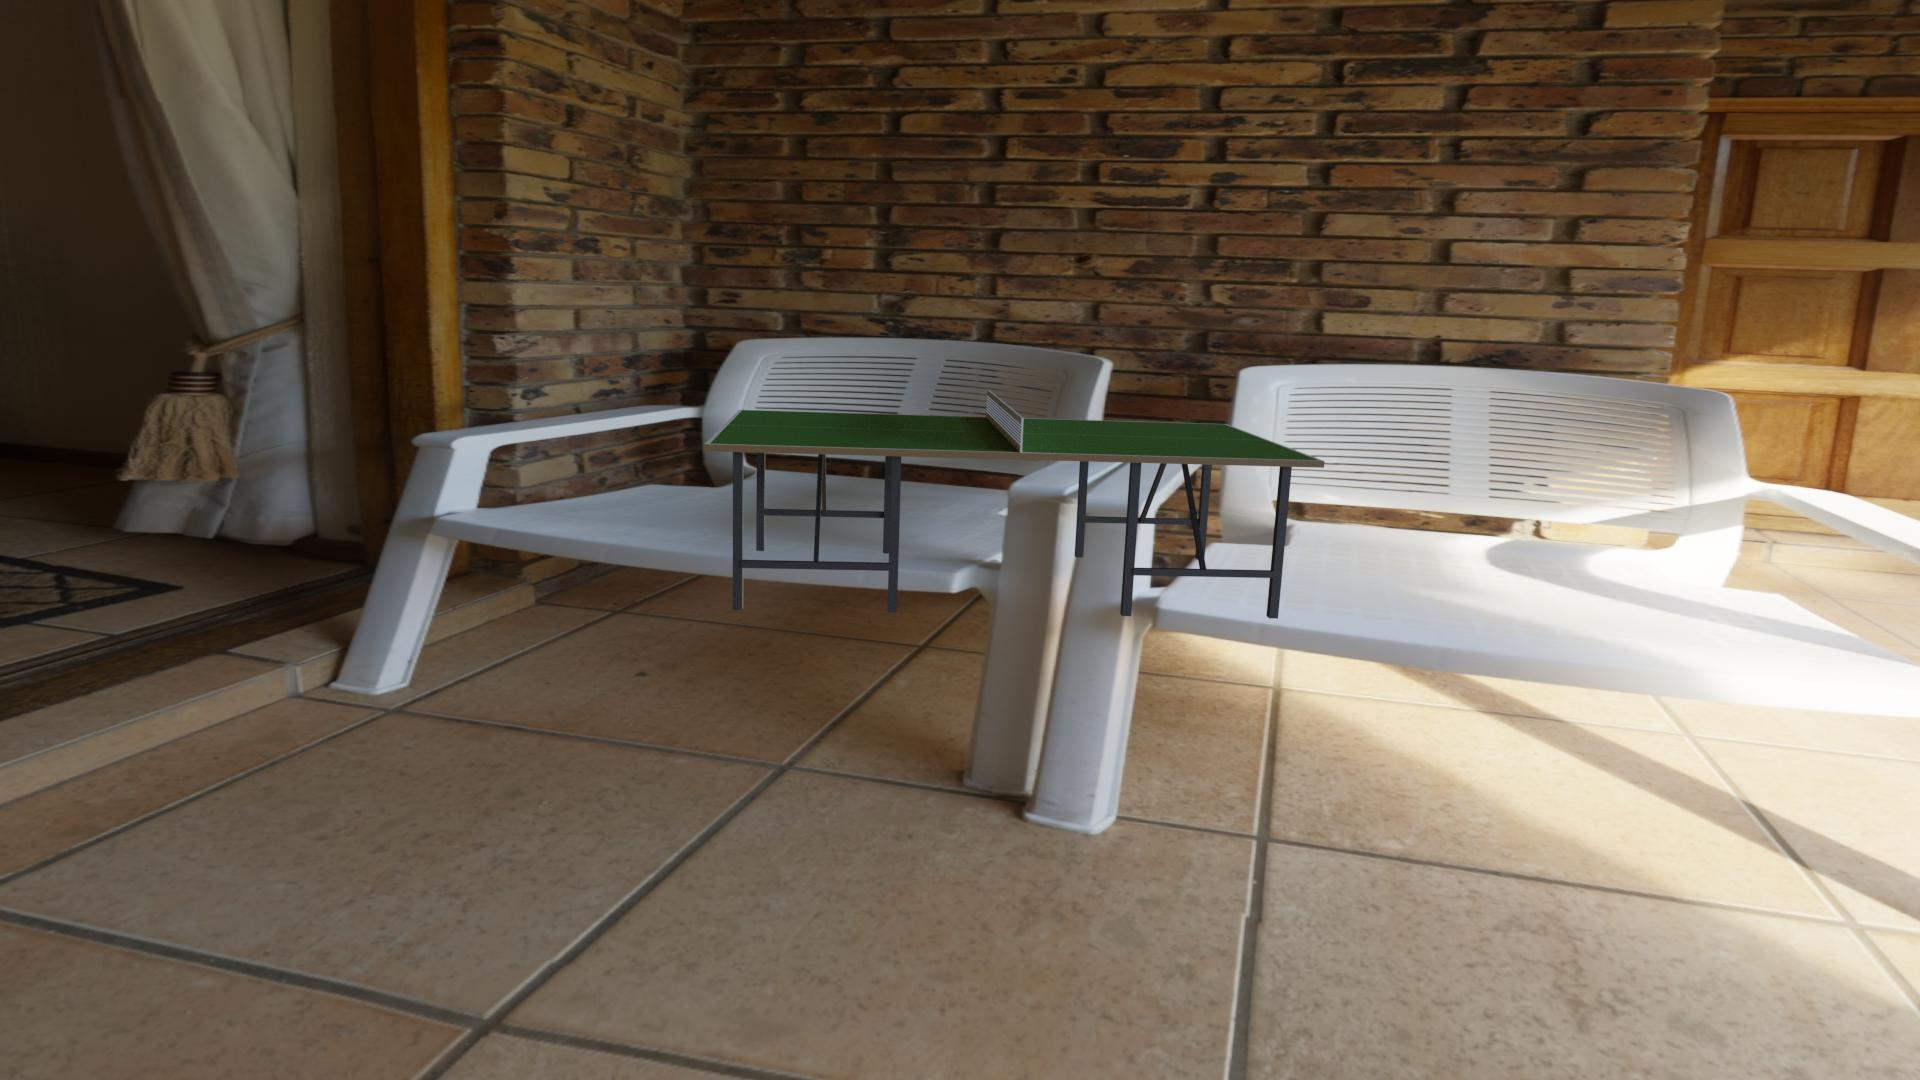table: (709, 410, 1319, 460)
